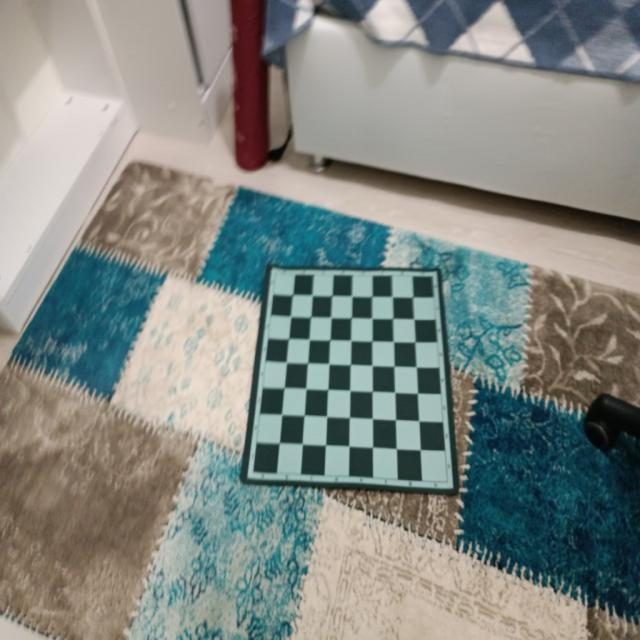chess-table-corners: (270, 266, 283, 282), (248, 463, 260, 478), (442, 474, 452, 488), (426, 270, 436, 284)
